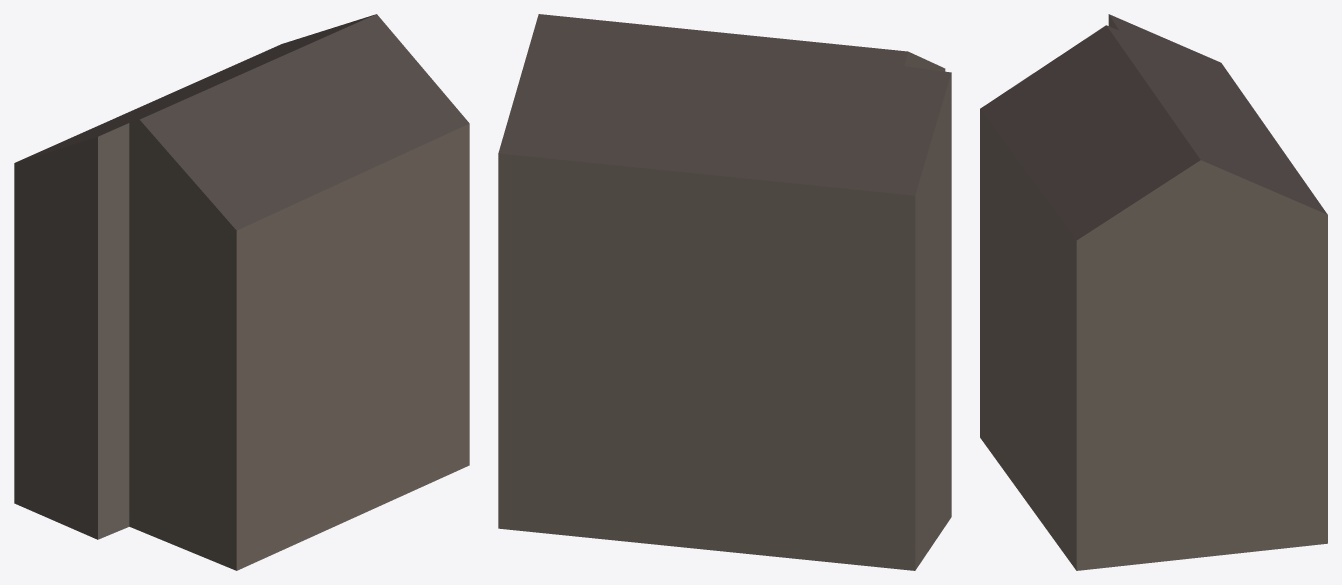
3 views of the same model, side by side, from view 1: azimuth 30°, elevation 25°; view 2: azimuth 150°, elevation 25°; view 3: azimuth 270°, elevation 25° (orthographic). The views are drawn at different scales.
Visible parts, largest first — view 1: HP-w783664793; view 2: HP-w783664793; view 3: HP-w783664793.
Part boxes in pixels (bbox=[...]): HP-w783664793: bbox=[14, 14, 469, 570]; HP-w783664793: bbox=[498, 14, 951, 570]; HP-w783664793: bbox=[980, 14, 1327, 570].
Size of the model in its own units: 7.02 by 7.25 by 5.75.
